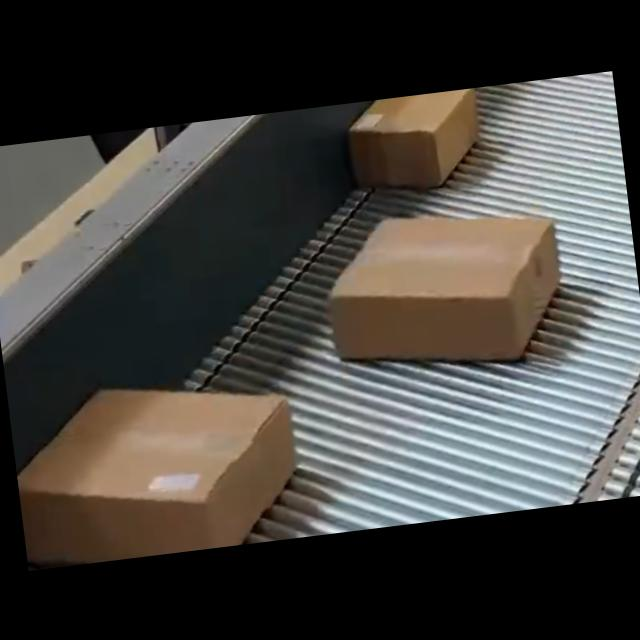box: (7, 362, 308, 570), (318, 195, 574, 382), (342, 86, 486, 192)
